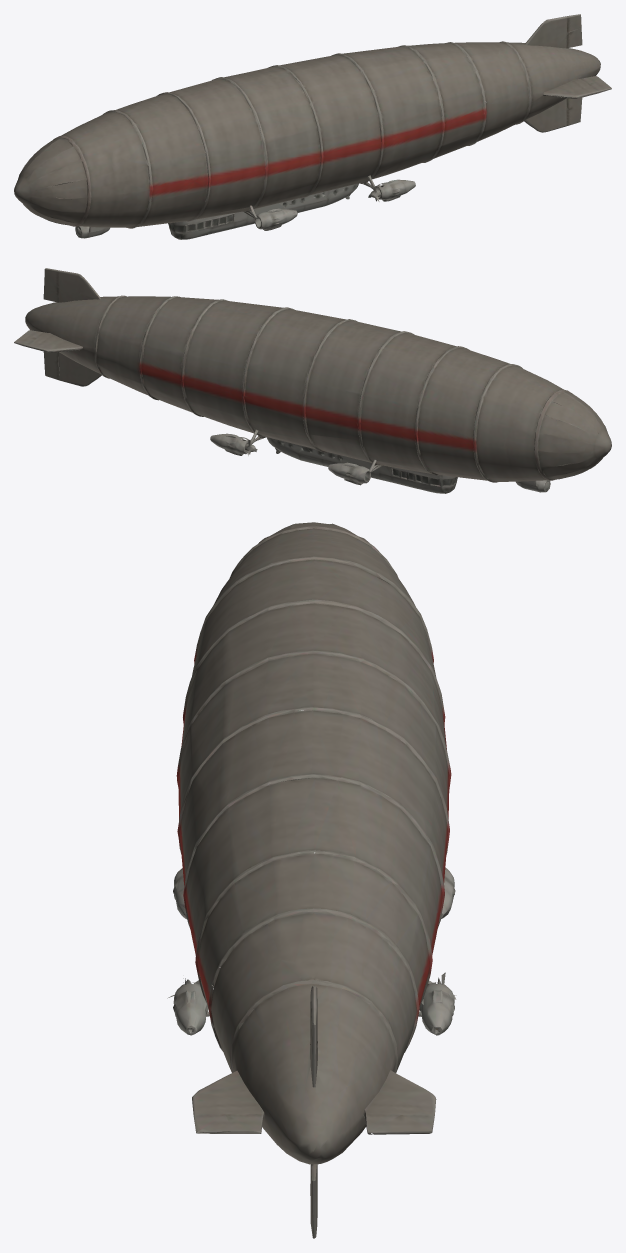
Rendered from patrol_airship.glb.
The picture shows the model from 3 angles, top to bottom: view 1: azimuth 30°, elevation 25°; view 2: azimuth 150°, elevation 25°; view 3: azimuth 270°, elevation 25°; orthographic projection. The views are drawn at different scales.
Parts seen in each view (by area): view 1: main; view 2: main; view 3: main.
Boxes of the visible parts, x1,y1,x2,y2 form: main: [14, 14, 611, 239]; main: [14, 268, 611, 493]; main: [167, 522, 456, 1238].
Bounding box in the file's own units: 15.21 × 3.61 × 3.29.
1 material, 1 textured.
